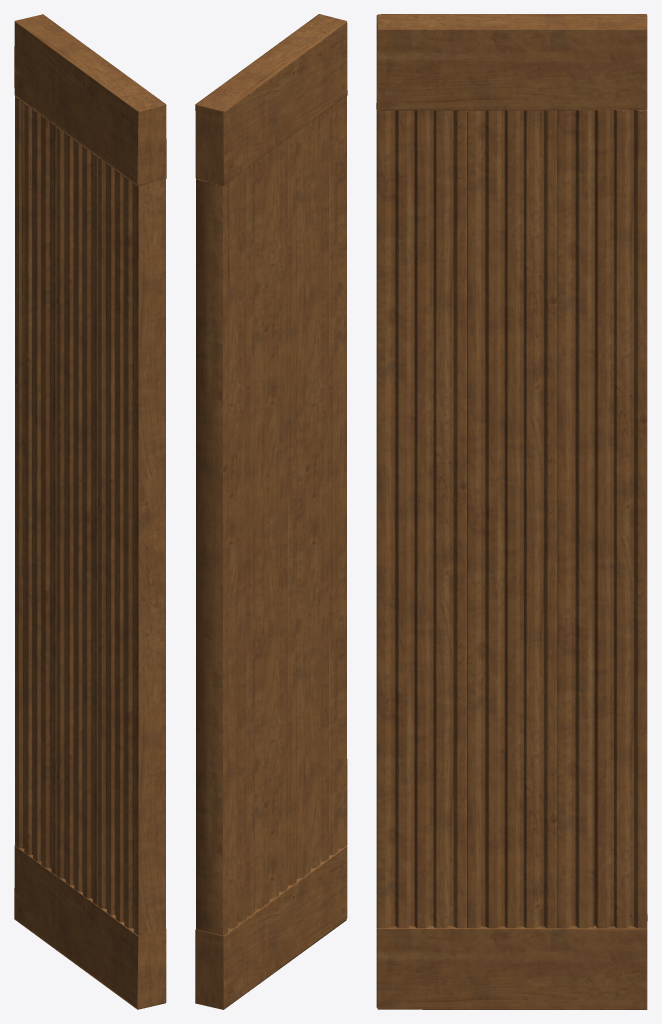
Rendered from SM_Office_wall01m.fbx.
3 renders of one model, left to right at view 1: azimuth 30°, elevation 25°; view 2: azimuth 150°, elevation 25°; view 3: azimuth 270°, elevation 25°, orthographic. The views are drawn at different scales.
Parts seen in each view (by area): view 1: SM_Office_wall01m_LOD0; view 2: SM_Office_wall01m_LOD0; view 3: SM_Office_wall01m_LOD0.
Part boxes in pixels (<box>): SM_Office_wall01m_LOD0: <box>14,14,166,1009</box>; SM_Office_wall01m_LOD0: <box>195,14,347,1009</box>; SM_Office_wall01m_LOD0: <box>376,14,647,1009</box>.
Bounding box in the file's own units: 20.39 × 150 × 600.
